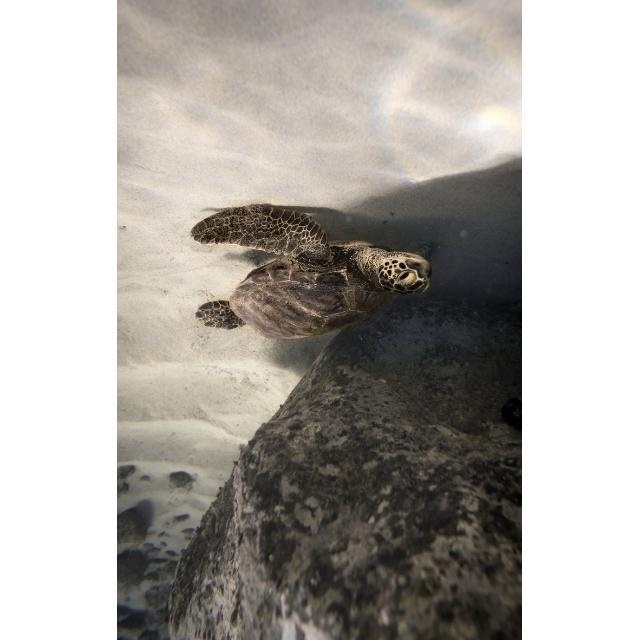turtle: (188, 202, 435, 340)
